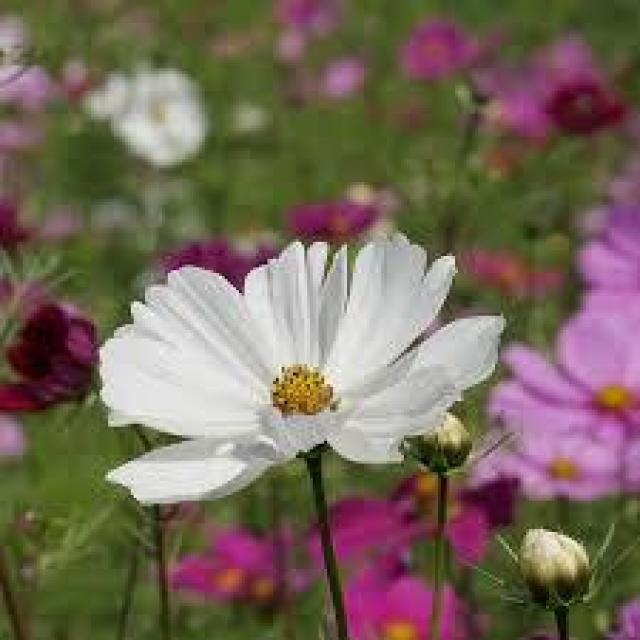organic waste: (100, 232, 500, 505)
